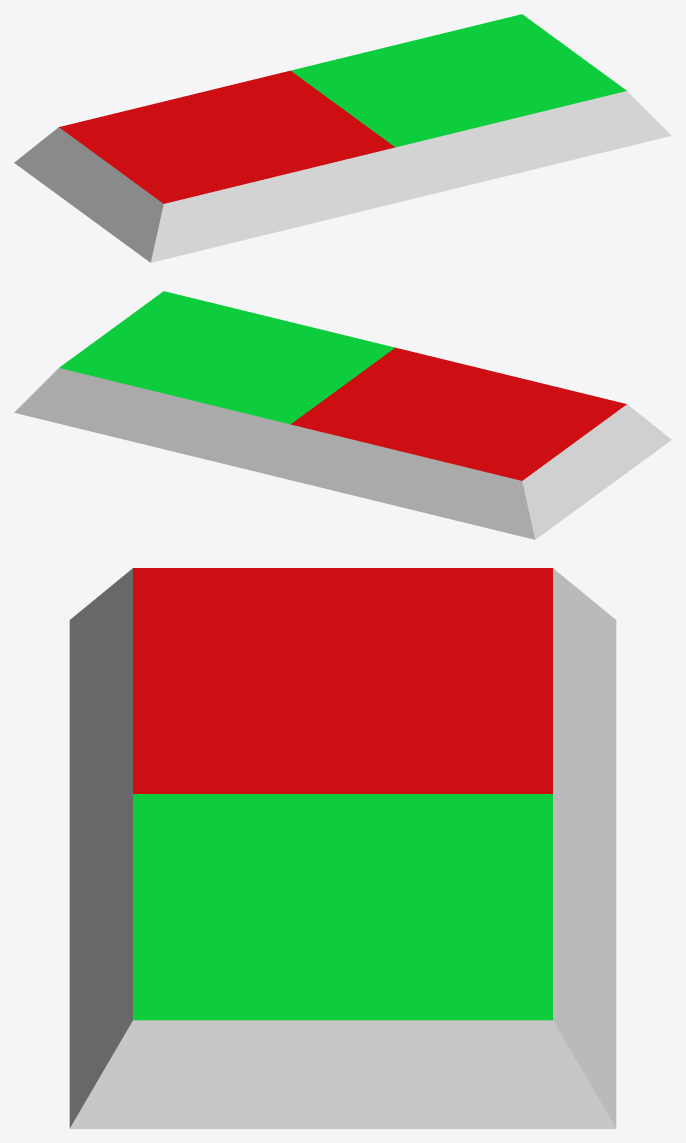
File: AFCButton.fbx
3 renders of one model, top to bottom at view 1: azimuth 30°, elevation 25°; view 2: azimuth 150°, elevation 25°; view 3: azimuth 270°, elevation 25°, orthographic. The views are drawn at different scales.
Visible parts, largest first — view 1: AFCButtonModel; view 2: AFCButtonModel; view 3: AFCButtonModel.
Boxes of the visible parts, x1,y1,x2,y2 form: AFCButtonModel: (14,14,671,262); AFCButtonModel: (14,291,671,539); AFCButtonModel: (69,568,616,1128).
Bounding box in the file's own units: 440 × 32.47 × 200.
